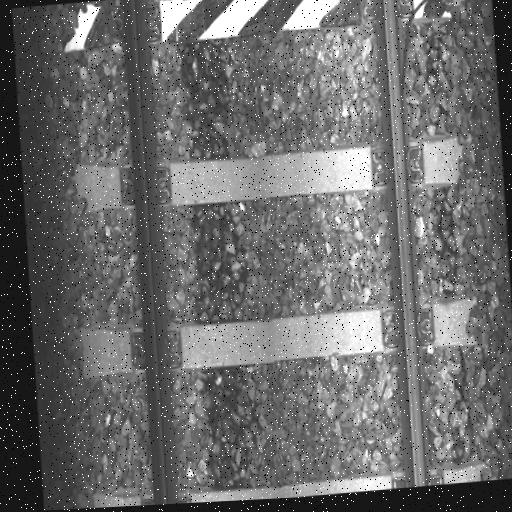sleeper: (67, 125, 482, 221), (77, 289, 491, 382), (86, 451, 500, 508), (59, 0, 470, 57)
